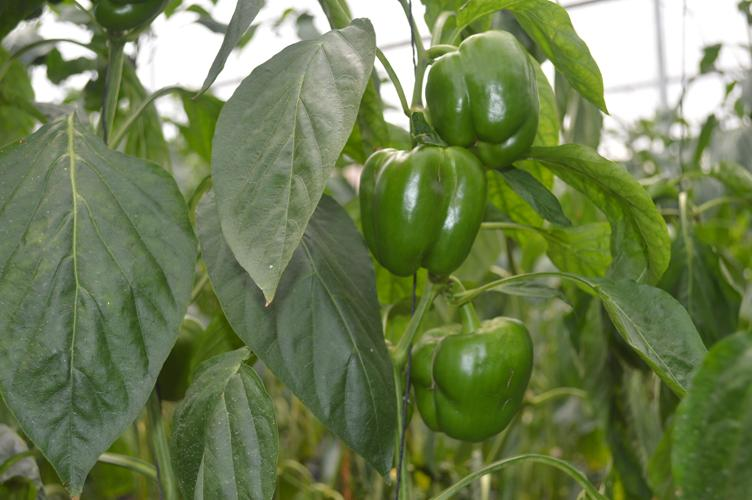BellPepper: (416, 28, 541, 168), (359, 147, 488, 278), (407, 317, 532, 439)
